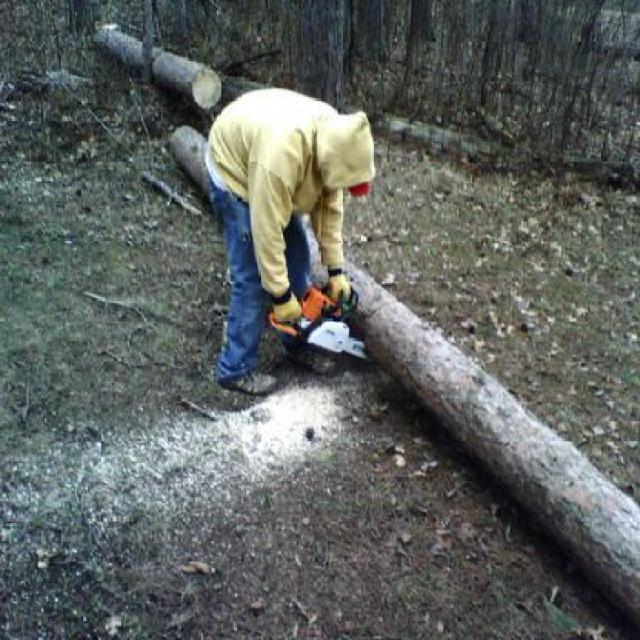Chainsaw: (266, 288, 369, 360)
